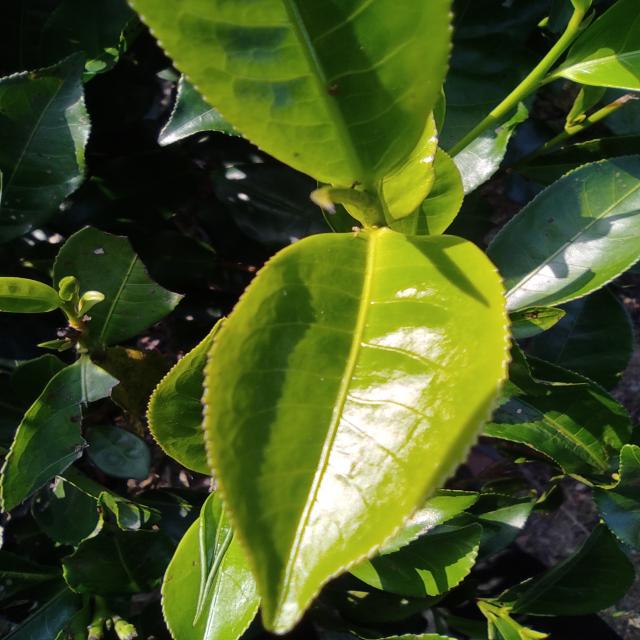Category B 2-4 days: (185, 210, 530, 640)
